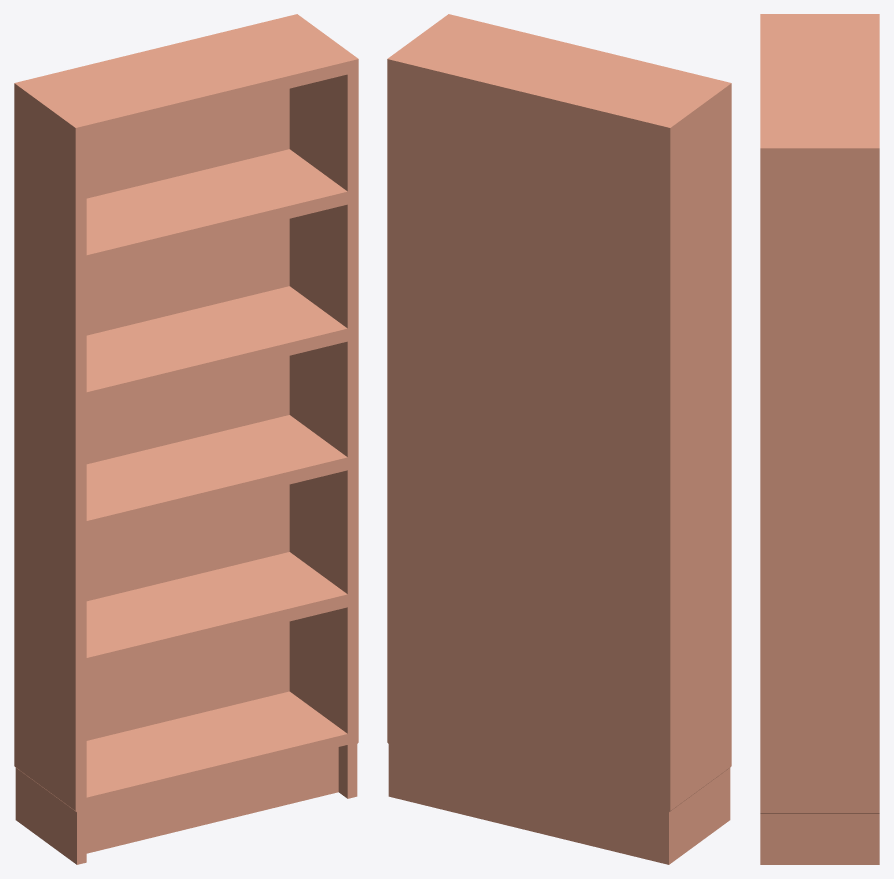
File: bookshelf.fbx
The picture shows the model from 3 angles, left to right: view 1: azimuth 30°, elevation 25°; view 2: azimuth 150°, elevation 25°; view 3: azimuth 270°, elevation 25°; orthographic projection. The views are drawn at different scales.
Visible parts, largest first — view 1: Bookshelf; view 2: Bookshelf; view 3: Bookshelf.
Boxes of the visible parts, x1,y1,x2,y2 form: Bookshelf: (14,14,358,864); Bookshelf: (387,14,731,864); Bookshelf: (760,14,879,864).
Size of the model in its own units: 79.65 by 198 by 29.95.
1 material, 1 textured.
